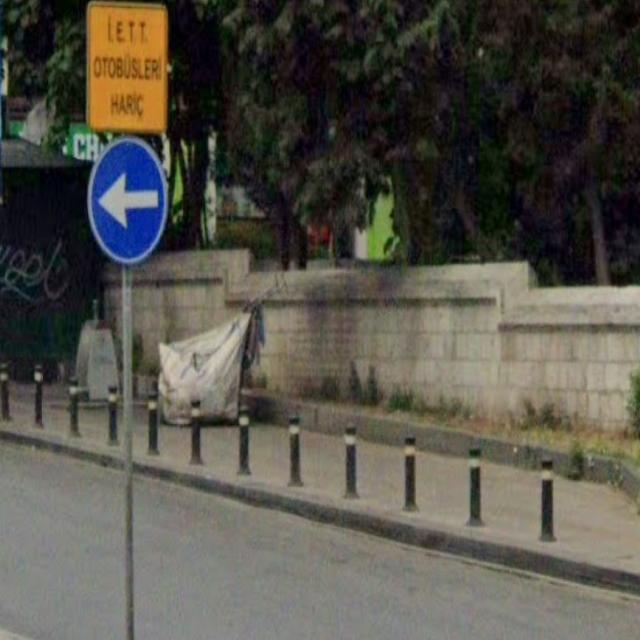Turn Left: (82, 132, 171, 266)
